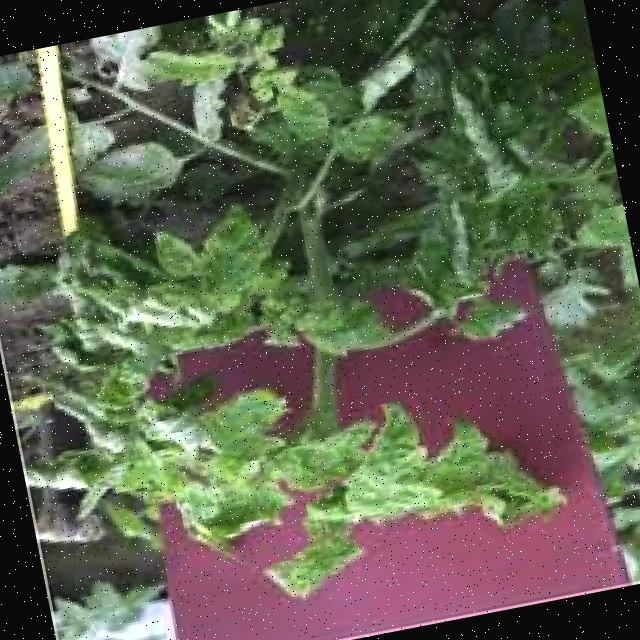leaf curl: (44, 288, 581, 634), (130, 0, 619, 332)
